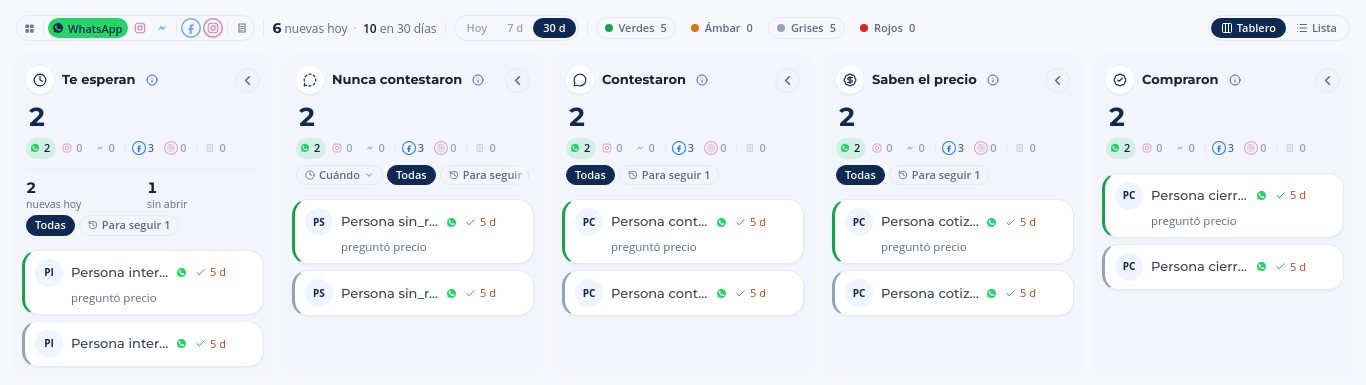
Test: VistaEmbudo — la fila de arriba › 🔴 con «Verdes» puesto, la card de «Te esperan» calla lo del día: describe otra lista
The image size is (1366, 385).
Click the button "Verdes 5" at (636, 28), box x1=596 y1=17 x2=676 y2=39
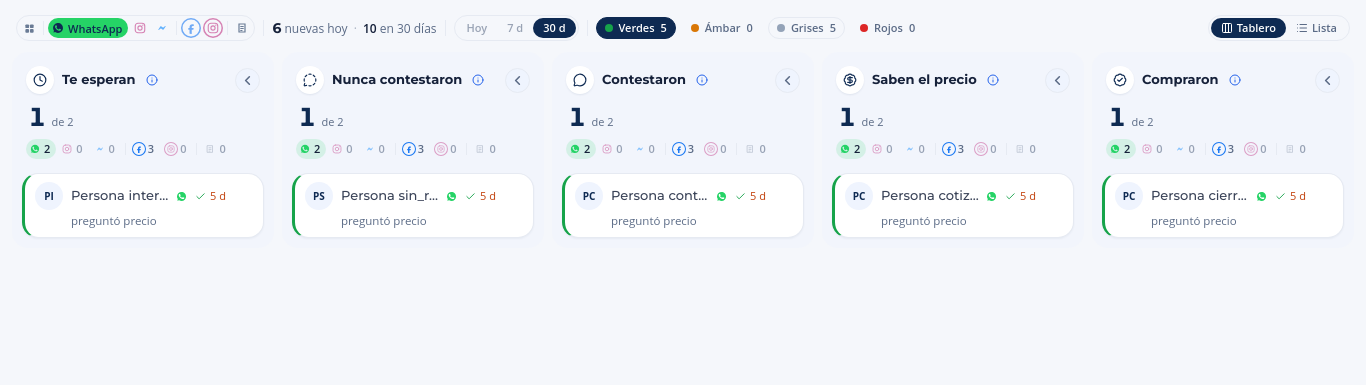
Expected: the text "1" below "Te esperan" is shown, x1=28 y1=101 x2=46 y2=133
